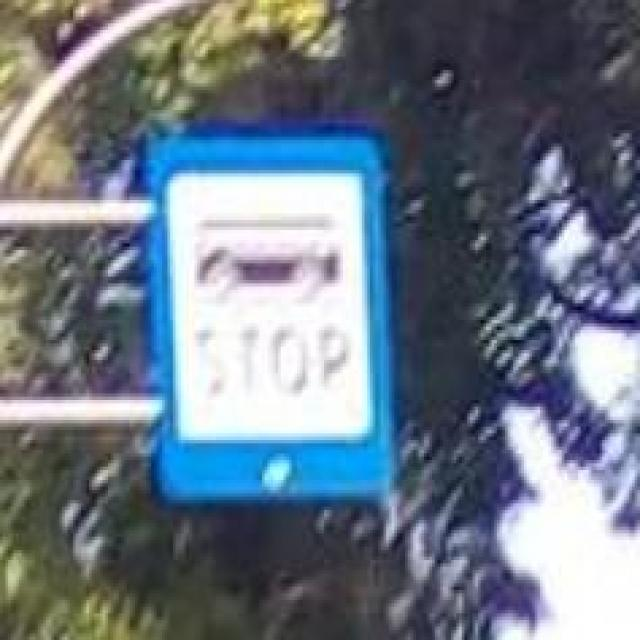traffic sign: (143, 127, 397, 503)
